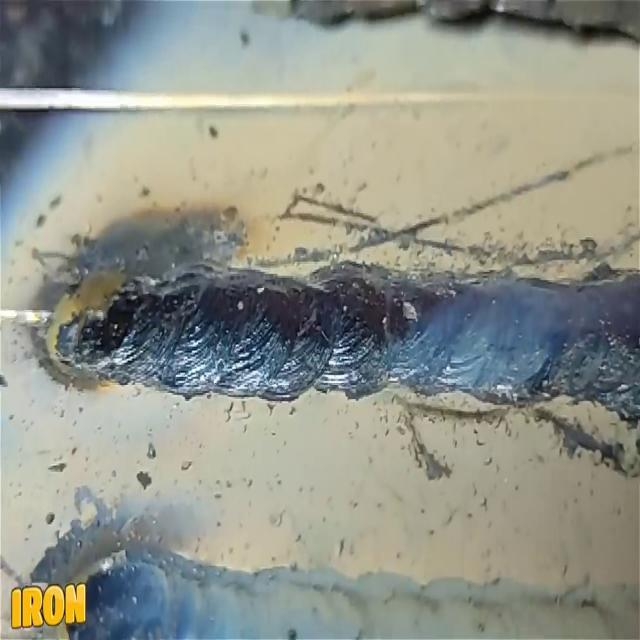Good Weld: (144, 280, 458, 395)
